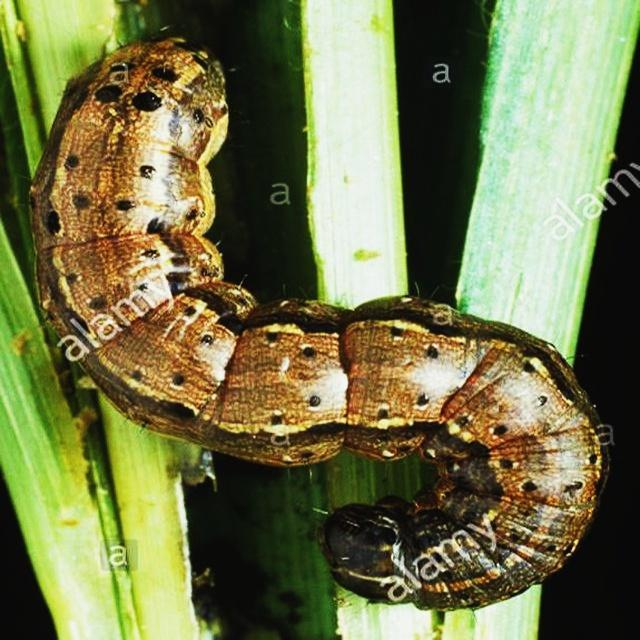gusano_cogollero: (22, 25, 616, 612)
